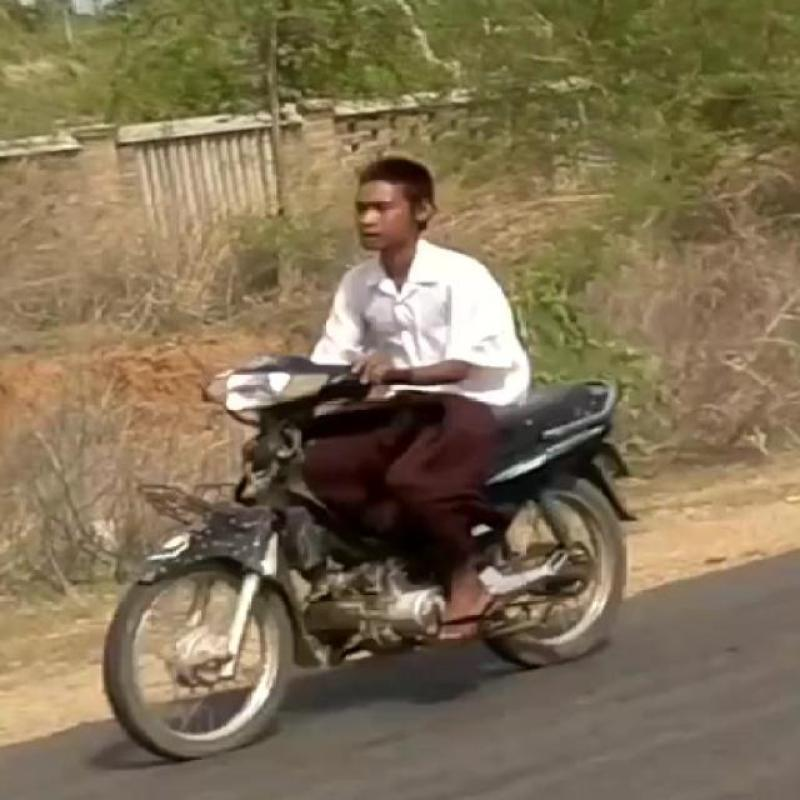nohelmet: (325, 126, 471, 282)
